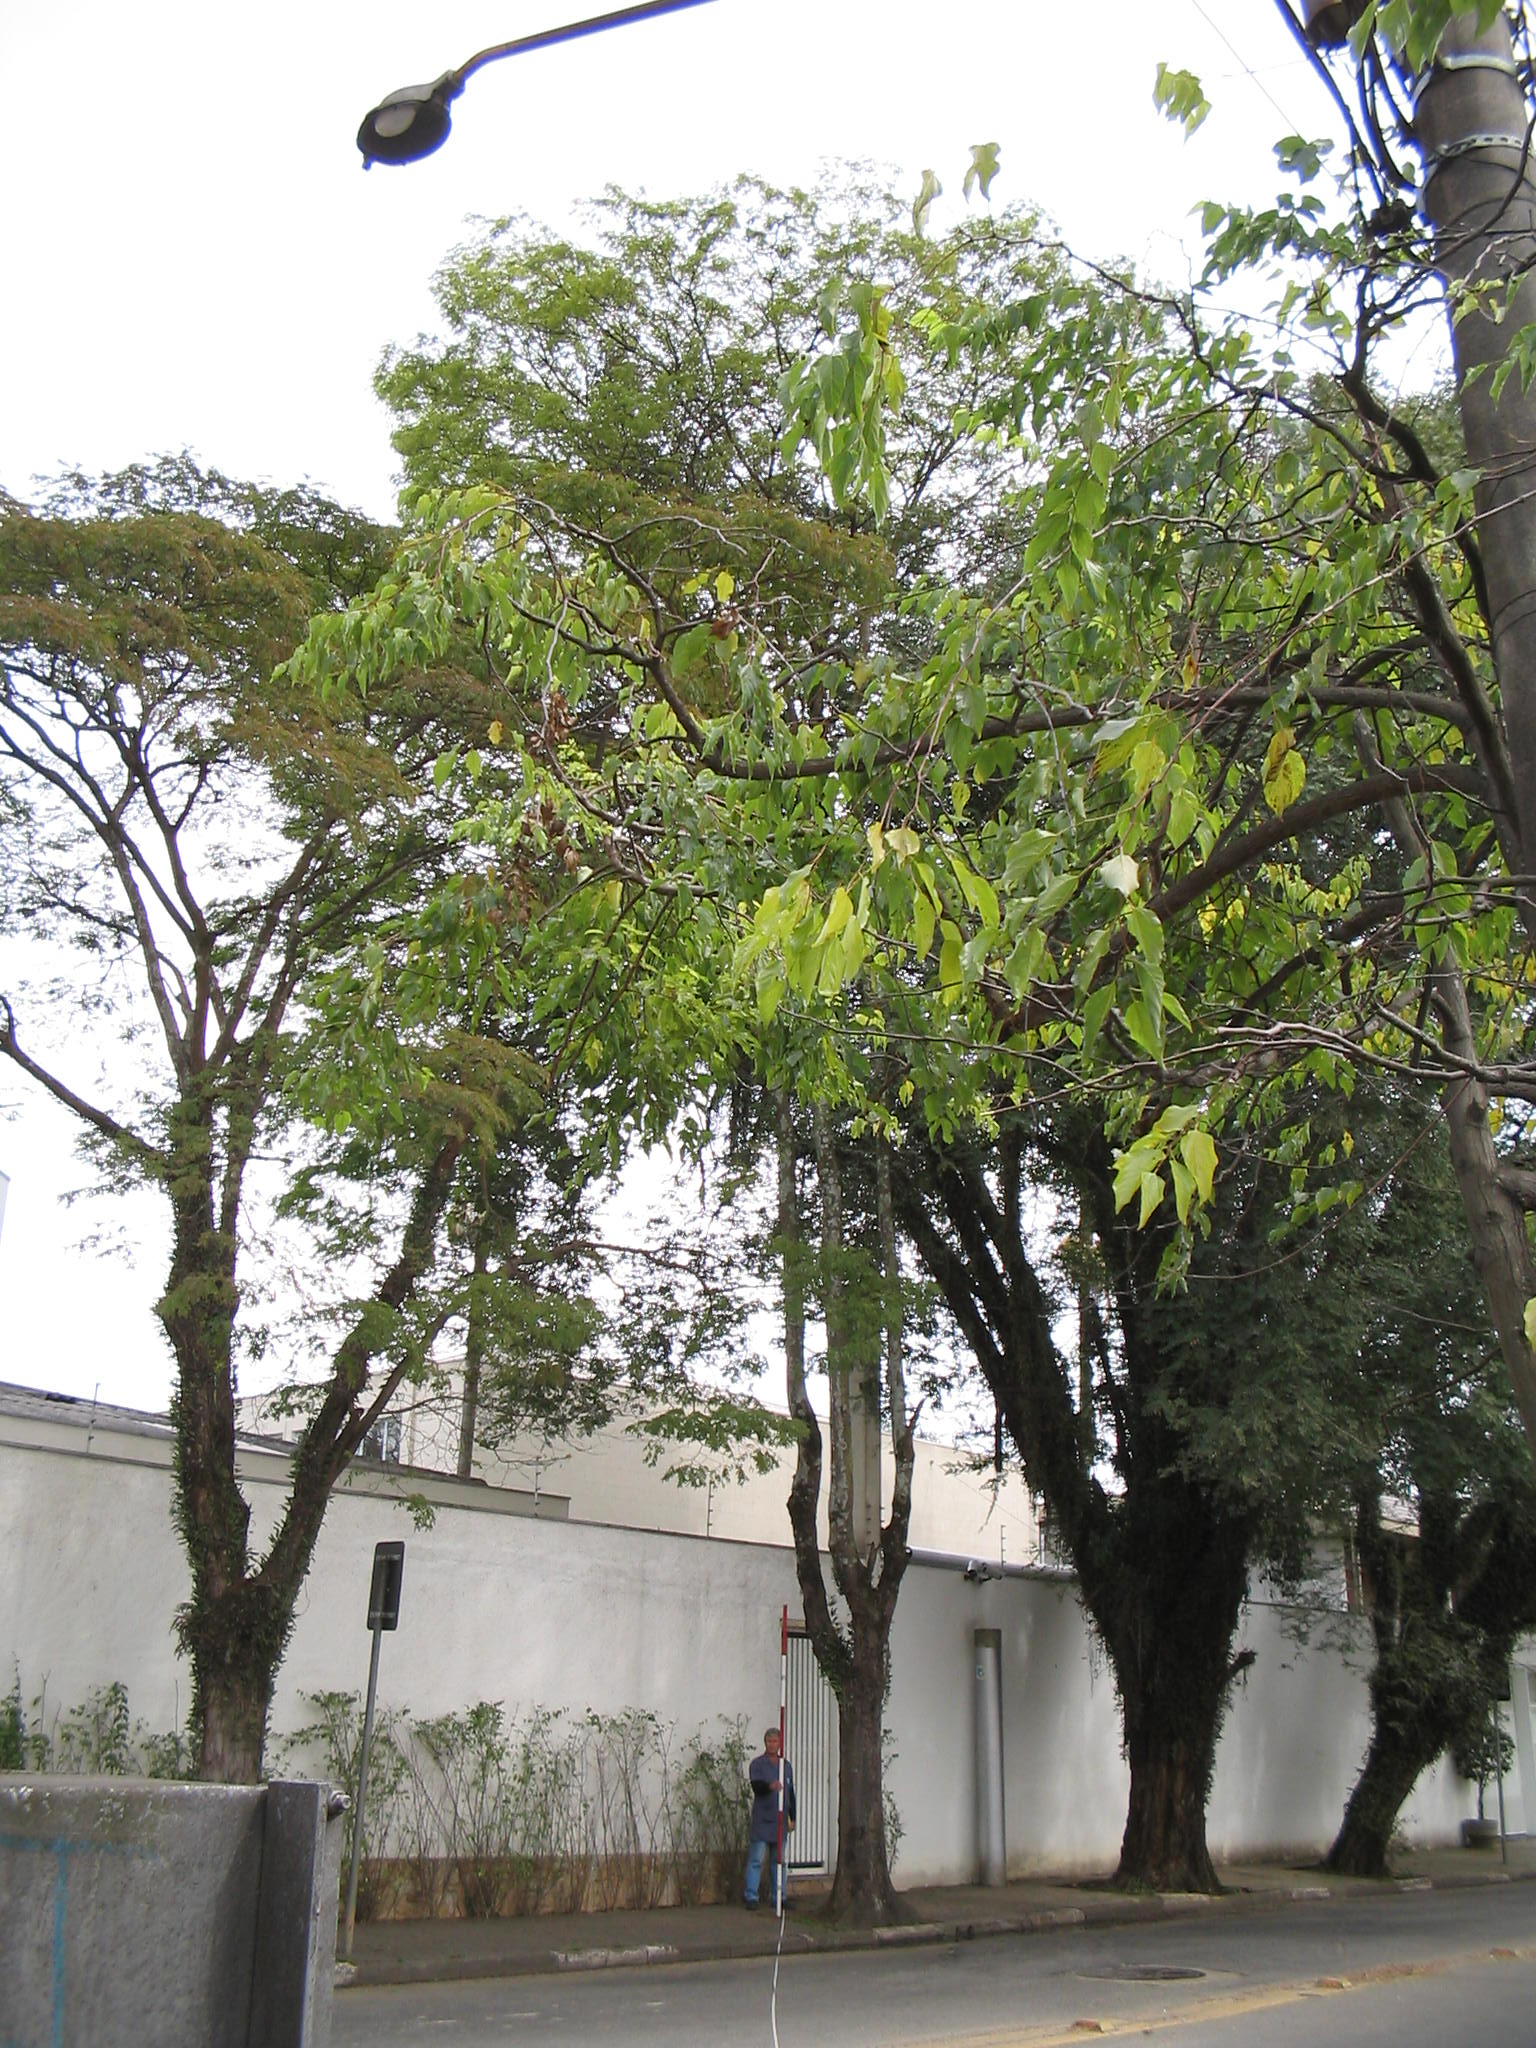crown: (392, 181, 1121, 1143), (11, 439, 745, 1156)
stem: (157, 1619, 298, 1927), (1094, 1669, 1244, 1898), (800, 1690, 921, 1925), (1325, 1740, 1459, 1879)
stick: (758, 1598, 803, 1913)
tree: (390, 181, 1117, 1922), (2, 435, 750, 1927), (904, 435, 1488, 1898), (1320, 1422, 1536, 1877)
